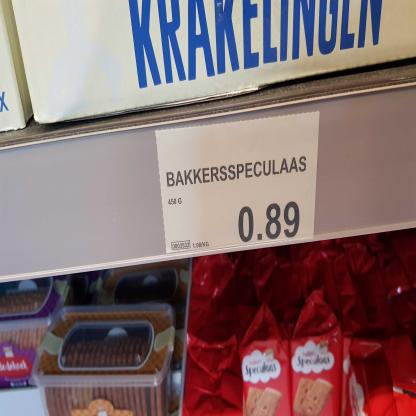prtg: (157, 112, 320, 254)
